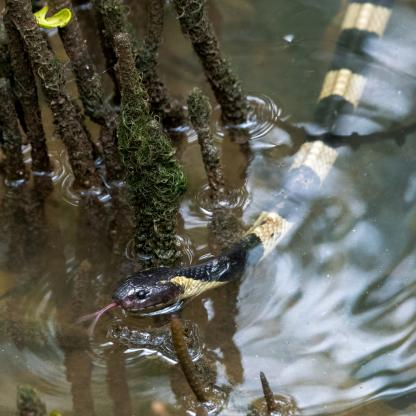Snake: (99, 244, 241, 321)
